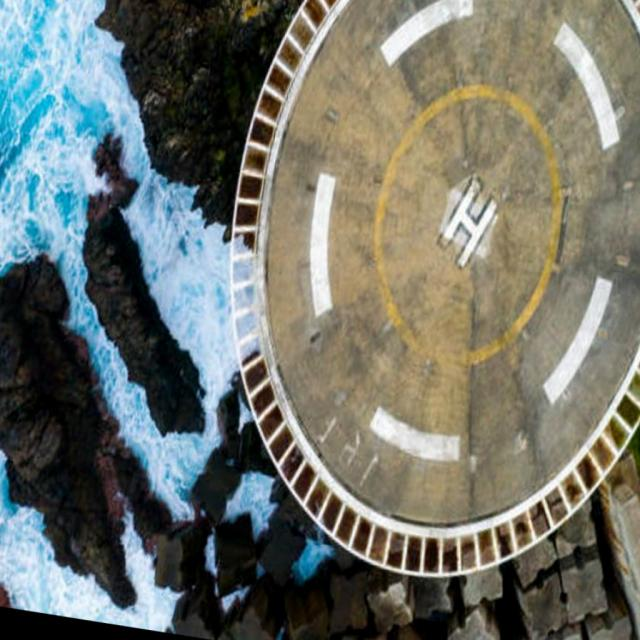helipad: (367, 77, 568, 372)
